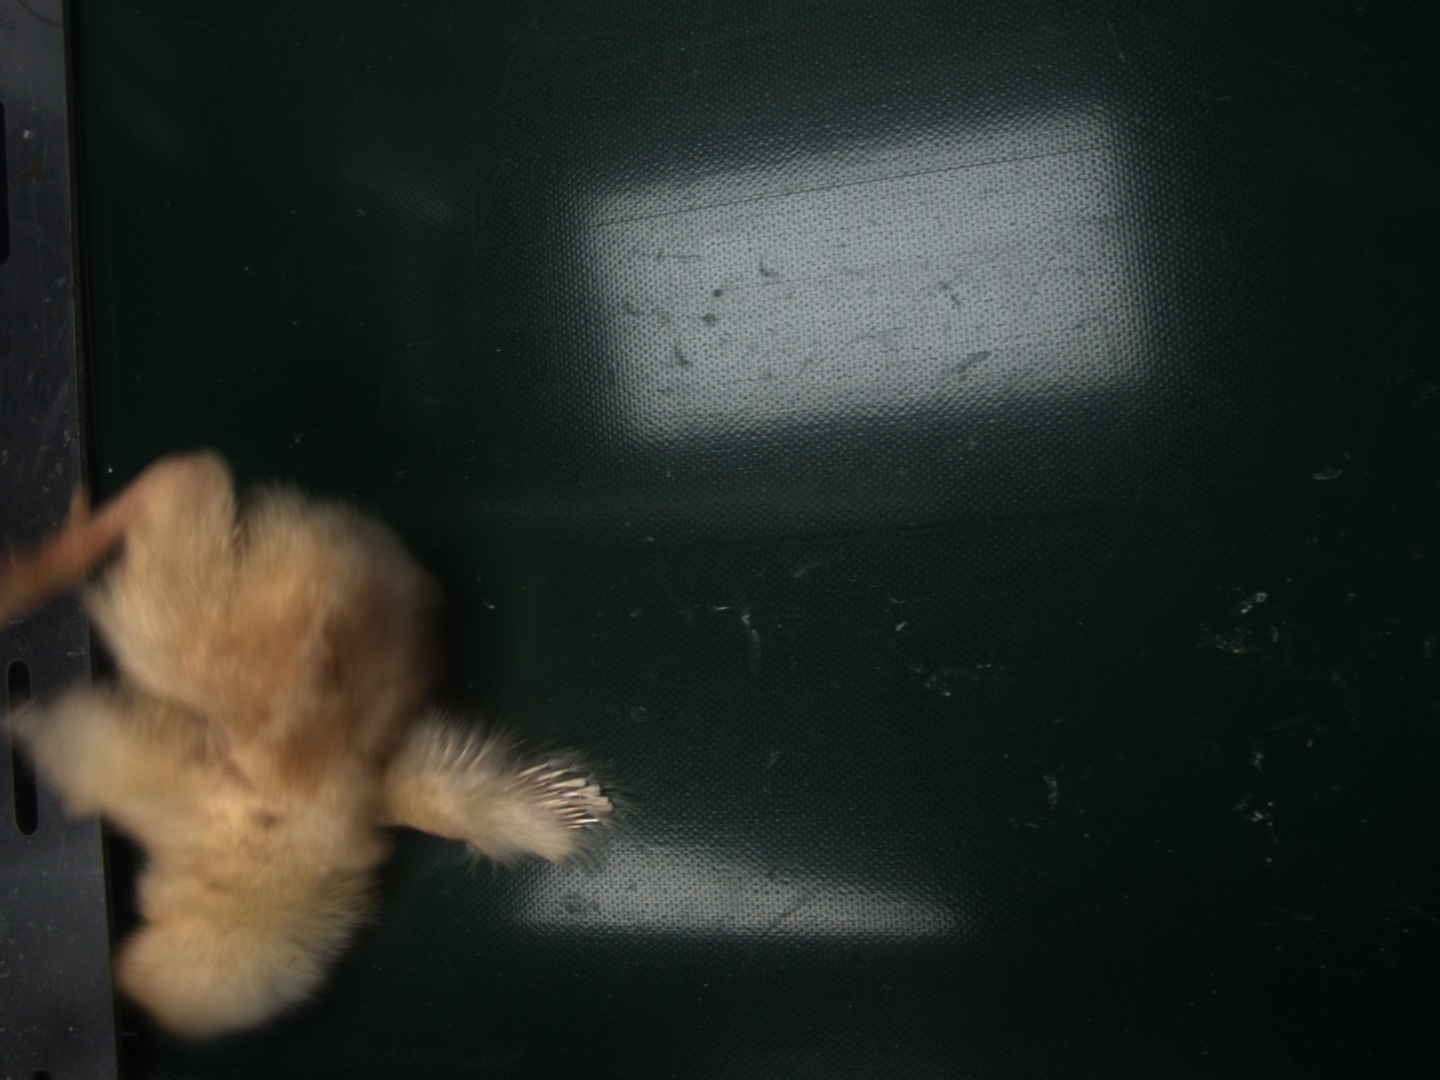female: (501, 760, 615, 833)
